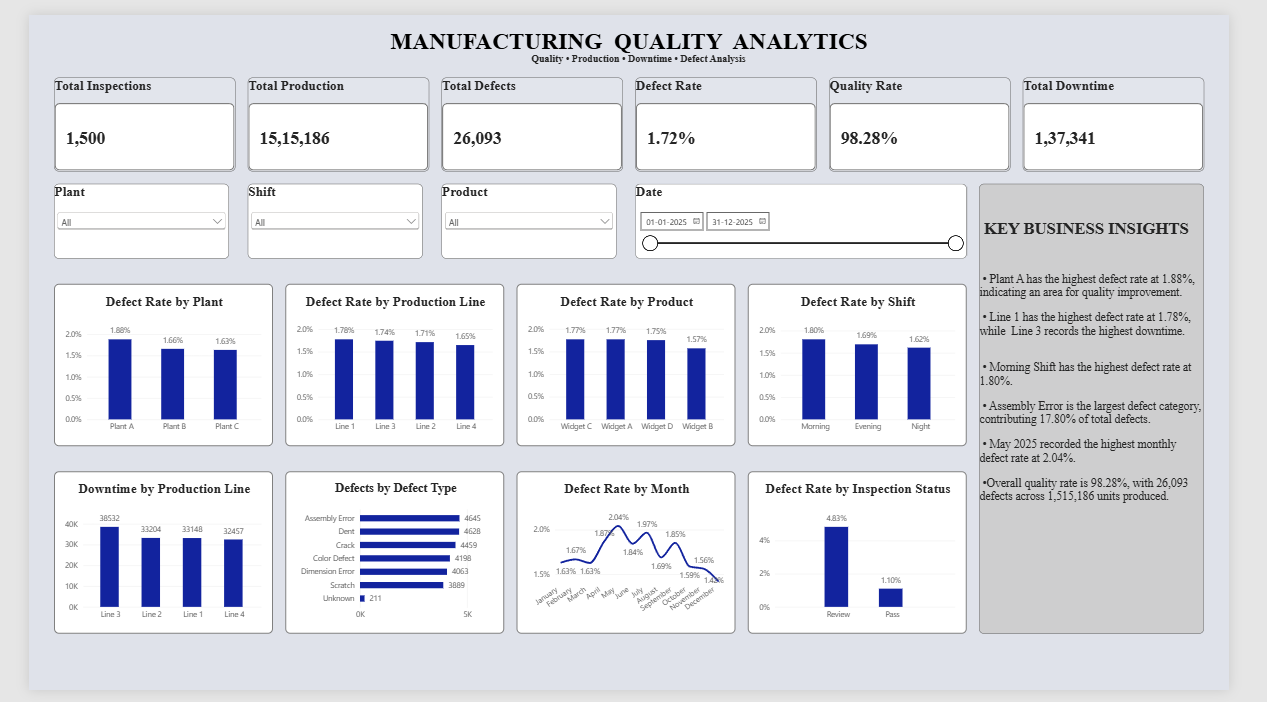

Layout of this report page (visuals, bound fields, positions):
{"tool":"powerbi","page":{"name":"Page 1","canvas":[1920,1080],"ordinal":0},"visuals":[{"type":"cardVisual","title":"Total Inspections","fields":{"Data":["Count(manufacturing_quality_cleaned.Inspection_ID)"]},"box":[40,100,290,150],"z":0},{"type":"cardVisual","title":"Total Production","fields":{"Data":["Sum(manufacturing_quality_cleaned.Production_Qty)"]},"box":[350,100,290,150],"z":1000},{"type":"cardVisual","title":"Total Defects","fields":{"Data":["Sum(manufacturing_quality_cleaned.Defect_Qty)"]},"box":[660,100,290,150],"z":2000},{"type":"cardVisual","title":"Defect Rate","fields":{"Data":["manufacturing_quality_cleaned.Defect Rate"]},"box":[970,100,290,150],"z":3000},{"type":"cardVisual","title":"Quality Rate","fields":{"Data":["manufacturing_quality_cleaned.Quality Rate"]},"box":[1280,100,290,150],"z":4000},{"type":"cardVisual","title":"Total Downtime","fields":{"Data":["Sum(manufacturing_quality_cleaned.Downtime_Min)"]},"box":[1590,100,290,150],"z":5000},{"type":"clusteredColumnChart","fields":{"Category":["manufacturing_quality_cleaned.Plant"],"Y":["manufacturing_quality_cleaned.Defect Rate"]},"box":[40,430,350,260],"z":6000},{"type":"clusteredColumnChart","title":"Defect Rate by Production Line","fields":{"Y":["manufacturing_quality_cleaned.Defect Rate"],"Category":["manufacturing_quality_cleaned.Production_Line"]},"box":[410,430,350,260],"z":7000},{"type":"clusteredColumnChart","fields":{"Y":["manufacturing_quality_cleaned.Defect Rate"],"Category":["manufacturing_quality_cleaned.Product"]},"box":[780,430,350,260],"z":8000},{"type":"clusteredColumnChart","fields":{"Y":["manufacturing_quality_cleaned.Defect Rate"],"Category":["manufacturing_quality_cleaned.Shift"]},"box":[1150,430,350,260],"z":9000},{"type":"lineChart","fields":{"Category":["manufacturing_quality_cleaned.Inspection_Date.Variation.Date Hierarchy.Month"],"Y":["manufacturing_quality_cleaned.Defect Rate"]},"box":[780,730,350,260],"z":10000},{"type":"clusteredColumnChart","title":"Downtime by Production Line","fields":{"Category":["manufacturing_quality_cleaned.Production_Line"],"Y":["Sum(manufacturing_quality_cleaned.Downtime_Min)"]},"box":[40,730,350,260],"z":11000},{"type":"clusteredBarChart","title":"Defects by Defect Type","fields":{"Category":["manufacturing_quality_cleaned.Defect_Type"],"Y":["Sum(manufacturing_quality_cleaned.Defect_Qty)"]},"box":[409.9,730.8,350.6,259.9],"z":12000},{"type":"textbox","box":[40,20,1840,60],"z":13000},{"type":"slicer","title":"Plant","fields":{"Values":["manufacturing_quality_cleaned.Plant"]},"box":[40,270,280,120],"z":14000},{"type":"slicer","title":"Shift","fields":{"Values":["manufacturing_quality_cleaned.Shift"]},"box":[350,270,280,120],"z":15000},{"type":"slicer","title":"Product","fields":{"Values":["manufacturing_quality_cleaned.Product"]},"box":[660,270,280,120],"z":16000},{"type":"slicer","title":"Date","fields":{"Values":["manufacturing_quality_cleaned.Inspection_Date"]},"box":[970,270.3,530,120],"z":17000},{"type":"textbox","box":[1520,270,360,720],"z":18000},{"type":"clusteredColumnChart","title":"Defect Rate by Inspection Status","fields":{"Category":["manufacturing_quality_cleaned.Inspection_Status"],"Y":["manufacturing_quality_cleaned.Defect Rate"]},"box":[1150,730,350,260],"z":19000},{"type":"textbox","box":[450,60,1050,25],"z":19001}]}

Visuals, with their boxes in screenshot pixels (x1, y1, x2, y2), scaled from the page's 1920x1080 canvas onto the 1267x702 screenshot:
"Total Inspections" cardVisual: x1=26 y1=65 x2=218 y2=162
"Total Production" cardVisual: x1=231 y1=65 x2=422 y2=162
"Total Defects" cardVisual: x1=436 y1=65 x2=627 y2=162
"Defect Rate" cardVisual: x1=640 y1=65 x2=831 y2=162
"Quality Rate" cardVisual: x1=845 y1=65 x2=1036 y2=162
"Total Downtime" cardVisual: x1=1049 y1=65 x2=1241 y2=162
clusteredColumnChart - manufacturing_quality_cleaned.Plant x manufacturing_quality_cleaned.Defect Rate: x1=26 y1=280 x2=257 y2=448
"Defect Rate by Production Line" clusteredColumnChart: x1=271 y1=280 x2=502 y2=448
clusteredColumnChart - manufacturing_quality_cleaned.Defect Rate x manufacturing_quality_cleaned.Product: x1=515 y1=280 x2=746 y2=448
clusteredColumnChart - manufacturing_quality_cleaned.Defect Rate x manufacturing_quality_cleaned.Shift: x1=759 y1=280 x2=990 y2=448
lineChart - manufacturing_quality_cleaned.Inspection_Date.Variation.Date Hierarchy.Month x manufacturing_quality_cleaned.Defect Rate: x1=515 y1=474 x2=746 y2=644
"Downtime by Production Line" clusteredColumnChart: x1=26 y1=474 x2=257 y2=644
"Defects by Defect Type" clusteredBarChart: x1=270 y1=475 x2=502 y2=644
textbox: x1=26 y1=13 x2=1241 y2=52
"Plant" slicer: x1=26 y1=176 x2=211 y2=254
"Shift" slicer: x1=231 y1=176 x2=416 y2=254
"Product" slicer: x1=436 y1=176 x2=620 y2=254
"Date" slicer: x1=640 y1=176 x2=990 y2=254
textbox: x1=1003 y1=176 x2=1241 y2=644
"Defect Rate by Inspection Status" clusteredColumnChart: x1=759 y1=474 x2=990 y2=644
textbox: x1=297 y1=39 x2=990 y2=55
